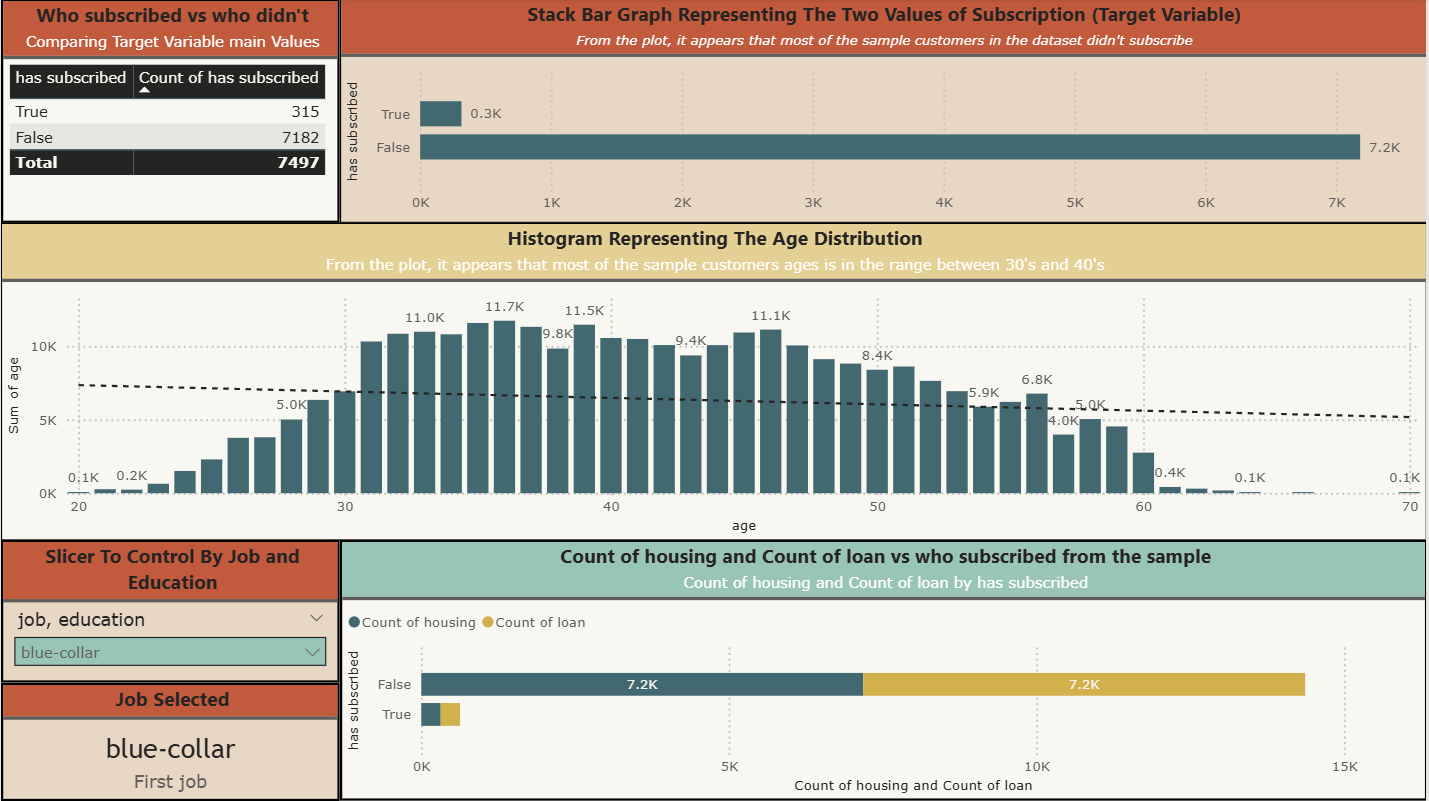

What the dashboard file says about the page in this screenshot:
{"tool":"powerbi","page":{"name":"Dashboard Job/Edu Slicer","canvas":[1280,720],"ordinal":0},"visuals":[{"type":"tableEx","title":"Who subscribed vs who didn''t","fields":{"Values":["optimizedBankData.y","CountNonNull(optimizedBankData.y)"]},"box":[0,0,304.4,200.6],"z":0},{"type":"barChart","title":"Stack Bar Graph Representing The Two Values of Subscription (Target Variable)","fields":{"Category":["optimizedBankData.has subscribed"],"Y":["CountNonNull(optimizedBankData.has subscribed)"]},"box":[304.3,0,975.9,201.1],"z":1000},{"type":"clusteredColumnChart","title":"Histogram Representing The Age Distribution ","fields":{"Category":["optimizedBankData.age"],"Y":["Sum(optimizedBankData.age)"]},"box":[0,201.1,1280.2,284.6],"z":2000},{"type":"barChart","title":"Count of housing and Count of loan vs who subscribed from the sample ","fields":{"Y":["CountNonNull(optimizedBankData.housing)","CountNonNull(optimizedBankData.loan)"],"Category":["optimizedBankData.has subscribed"]},"box":[304.3,485.7,975.9,234.3],"z":3000},{"type":"slicer","title":"Slicer To Control By Job and Education","fields":{"Values":["optimizedBankData.job","optimizedBankData.education"]},"box":[0,485.7,304.3,128.4],"z":4000},{"type":"card","title":"Job Selected","fields":{"Values":["Min(optimizedBankData.job)"]},"box":[0,614.1,304.3,105.9],"z":5000}]}

Visuals, with their boxes in screenshot pixels (x1, y1, x2, y2), scaled from the page's 1280x720 canvas onto the 1429x801 screenshot:
"Who subscribed vs who didn''t" tableEx: <bbox>0, 0, 340, 223</bbox>
"Stack Bar Graph Representing The Two Values of Subscription (Target Variable)" barChart: <bbox>340, 0, 1428, 224</bbox>
"Histogram Representing The Age Distribution " clusteredColumnChart: <bbox>0, 224, 1428, 540</bbox>
"Count of housing and Count of loan vs who subscribed from the sample " barChart: <bbox>340, 540, 1428, 800</bbox>
"Slicer To Control By Job and Education" slicer: <bbox>0, 540, 340, 683</bbox>
"Job Selected" card: <bbox>0, 683, 340, 800</bbox>
